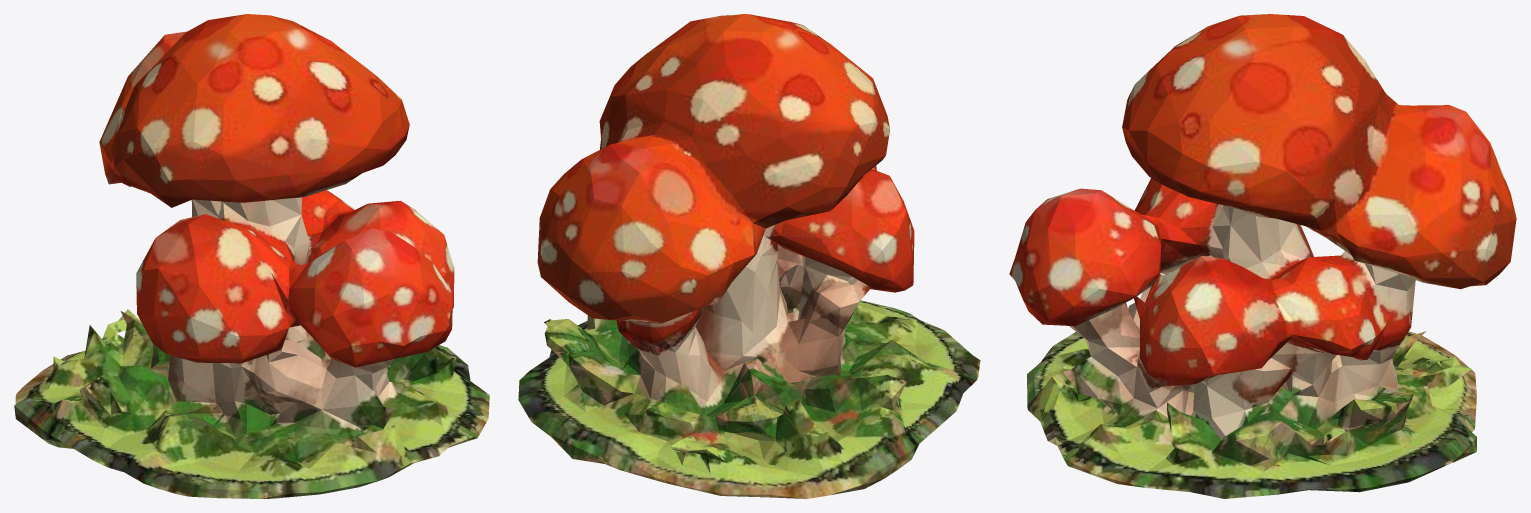
Rendered from orman_mantar.glb.
The picture shows the model from 3 angles, left to right: view 1: azimuth 30°, elevation 25°; view 2: azimuth 150°, elevation 25°; view 3: azimuth 270°, elevation 25°; orthographic projection. The views are drawn at different scales.
Parts seen in each view (by area): view 1: geometry_0; view 2: geometry_0; view 3: geometry_0.
Boxes of the visible parts, bbox=[...] form: geometry_0: bbox=[14, 14, 489, 498]; geometry_0: bbox=[518, 14, 980, 498]; geometry_0: bbox=[1009, 14, 1516, 498].
Bounding box in the file's own units: 0.7815 × 0.8002 × 0.8741.
Materials: 1 (1 with a texture image).
